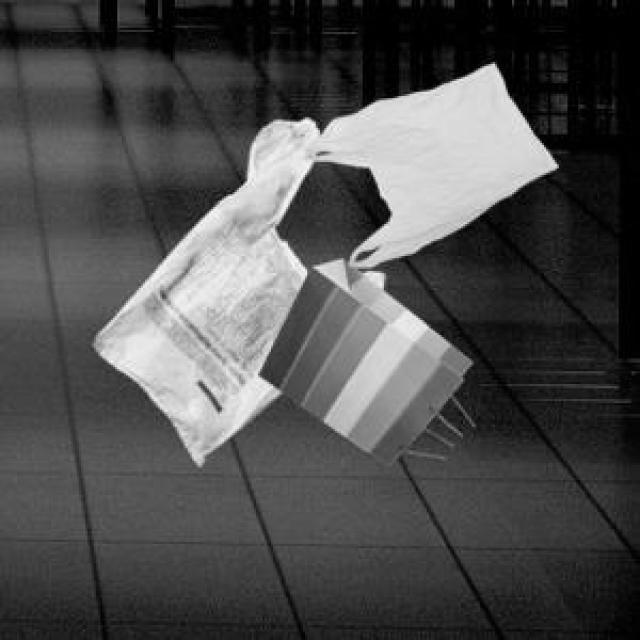paper: (256, 256, 467, 461)
